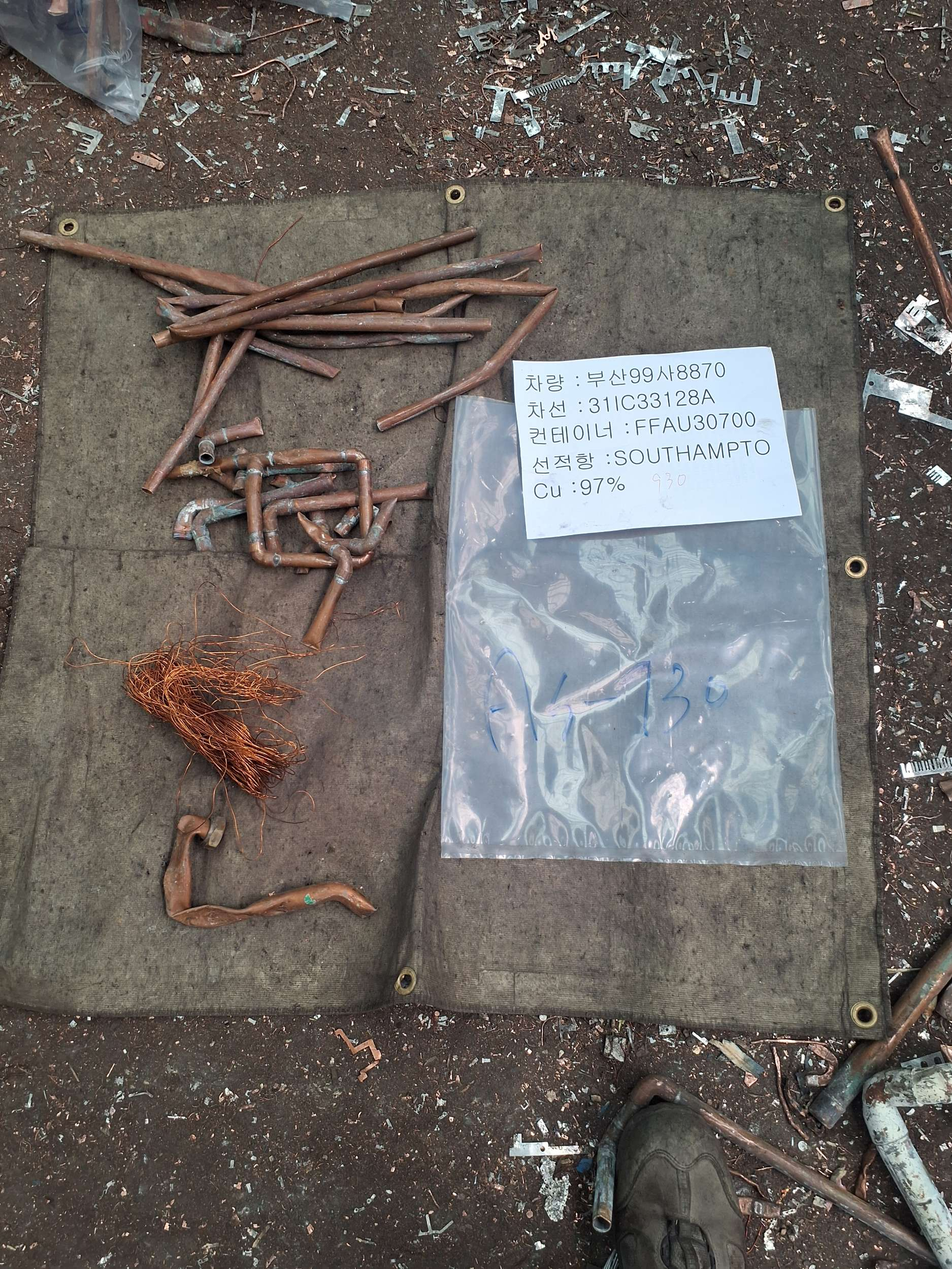Brass_Attach_70: (161, 817, 373, 927)
Thin_Enamled_Wire_89: (122, 638, 309, 805)
Tinned_Copper: (510, 61, 631, 104), (894, 295, 952, 355), (706, 71, 761, 105), (510, 1134, 581, 1158), (708, 119, 746, 155), (66, 119, 104, 155), (483, 85, 515, 122), (926, 464, 951, 487)
